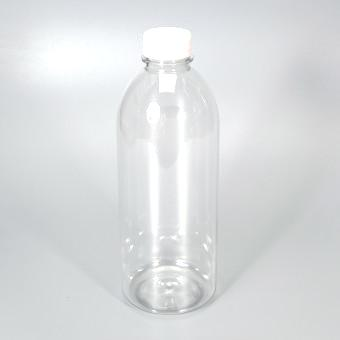bottle: (114, 27, 218, 313)
